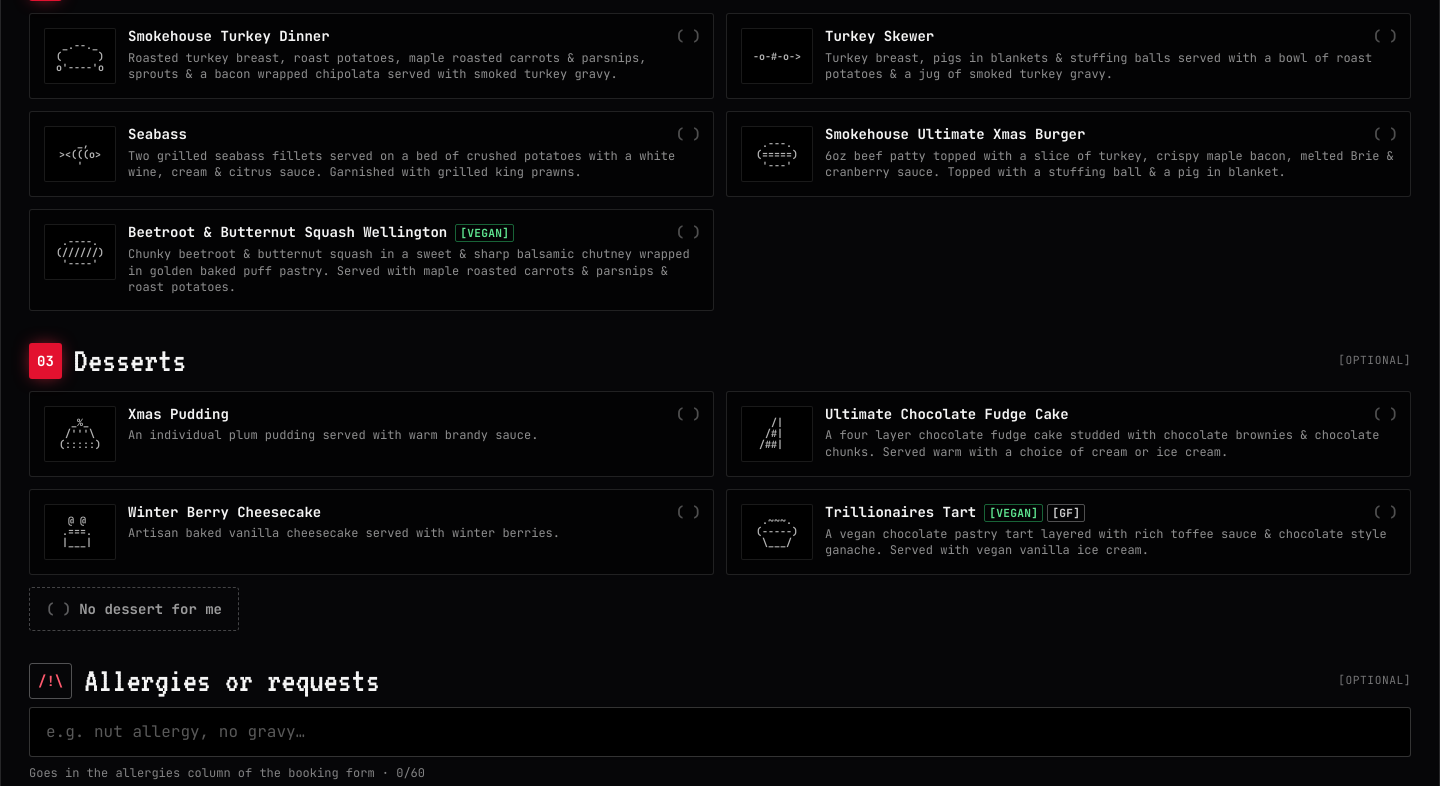
Test: OrderForm › lets you unselect a dish, a skip choice or an option by tapping it again
The image size is (1440, 786).
Earlier steps of the test are not shown.
(page scrolled)
Note: Fudge cake option has no default: tapping it again clears it.
What coordinates should you click on to do the following:
click the radio button labelled "Ultimate Chocolate Fudge Cake"
I would click on:
 (1068, 434)
Its box is [726,390,1411,476].
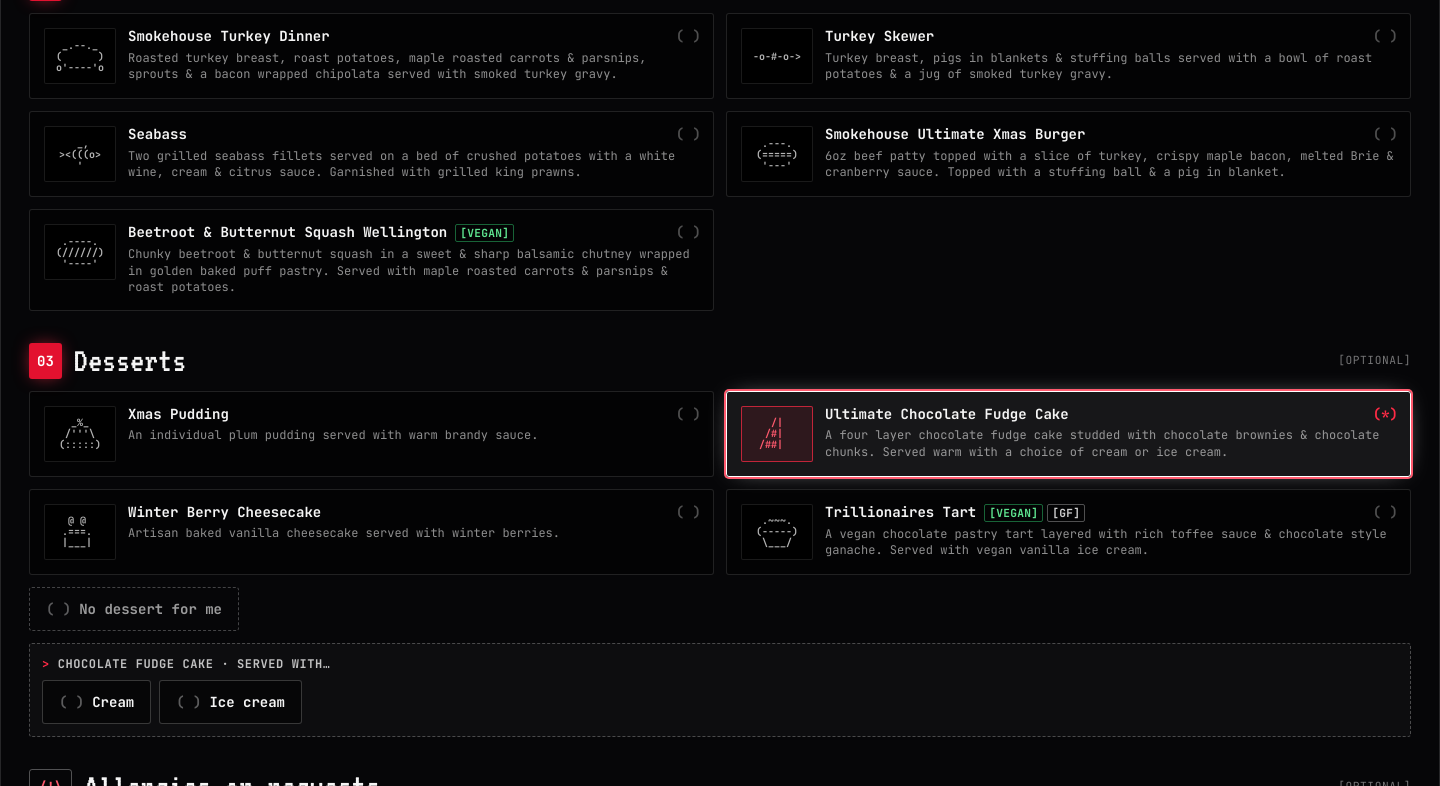
What coordinates should you click on to do the following:
click the radio button labelled "Ice cream"
I would click on:
 (231, 702)
Its box is [159,680,302,724].
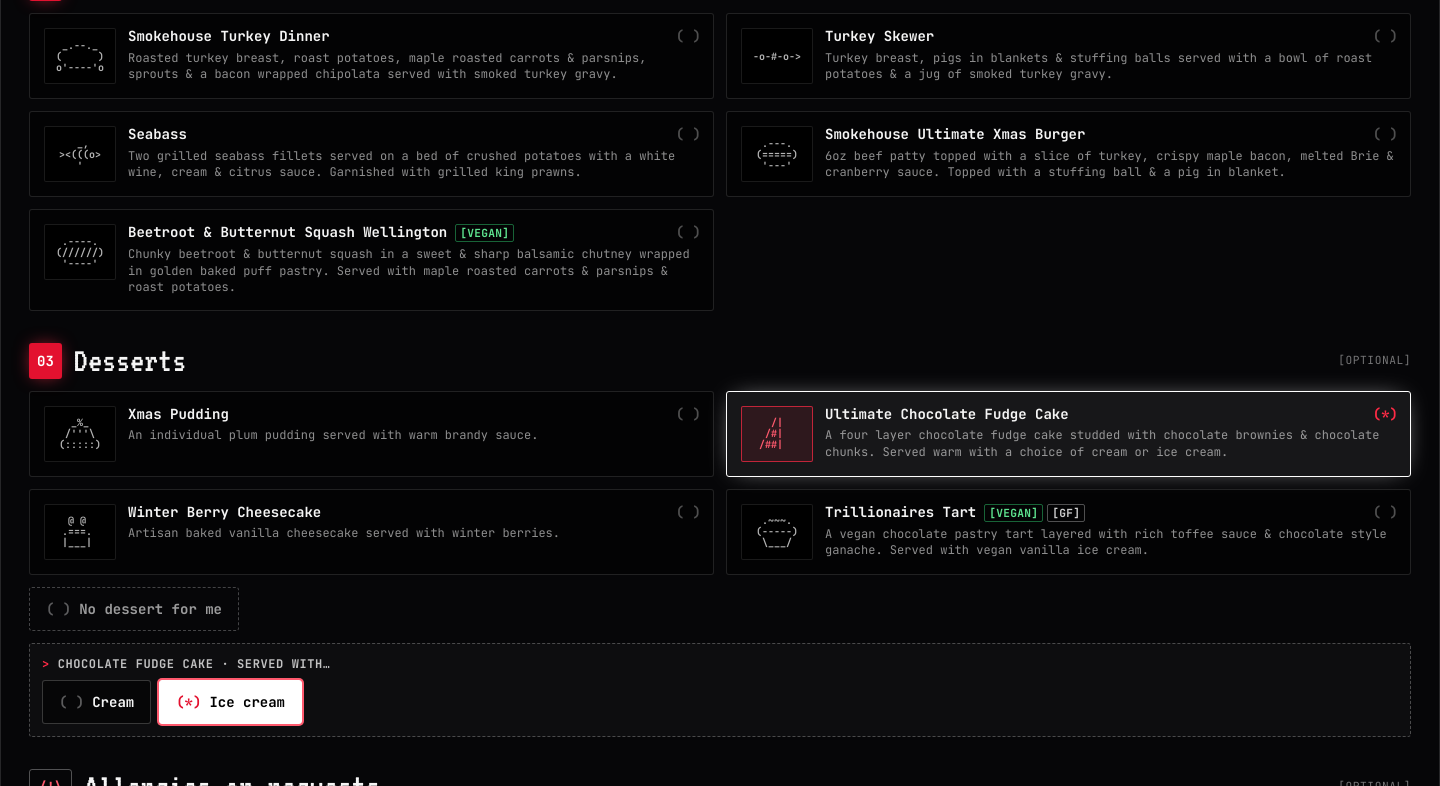
Expected: the radio button labelled "Ice cream" is checked
What coordinates should you click on to do the following:
click the radio button labelled "Ice cream"
I would click on:
 (231, 702)
Its box is [159,680,302,724].
(page scrolled)
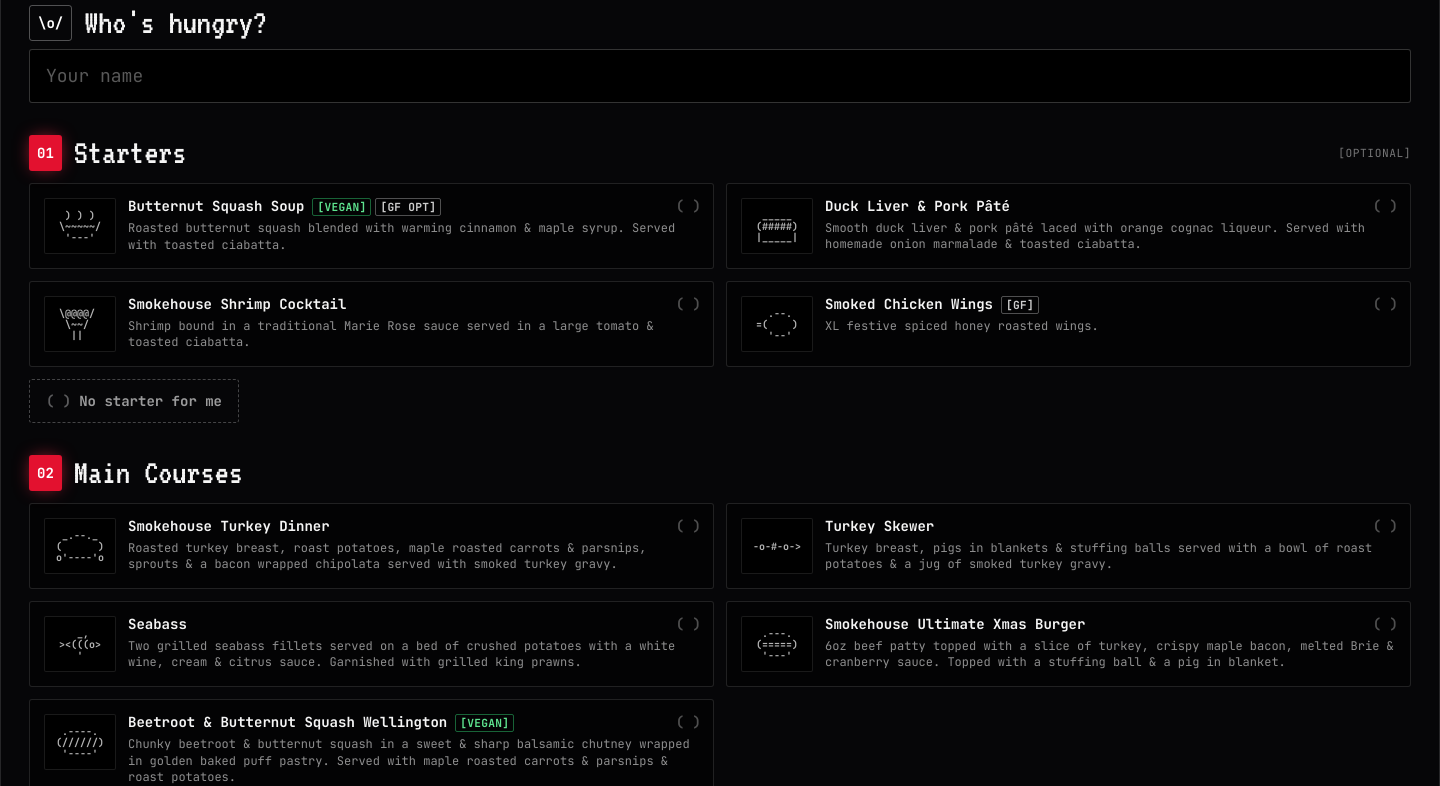
Note: Soup option falls back to the menu's default (standard).
What coordinates should you click on to do the following:
click the radio button labelled "Butternut Squash Soup"
I would click on:
 (372, 226)
Its box is [29,183,714,269].
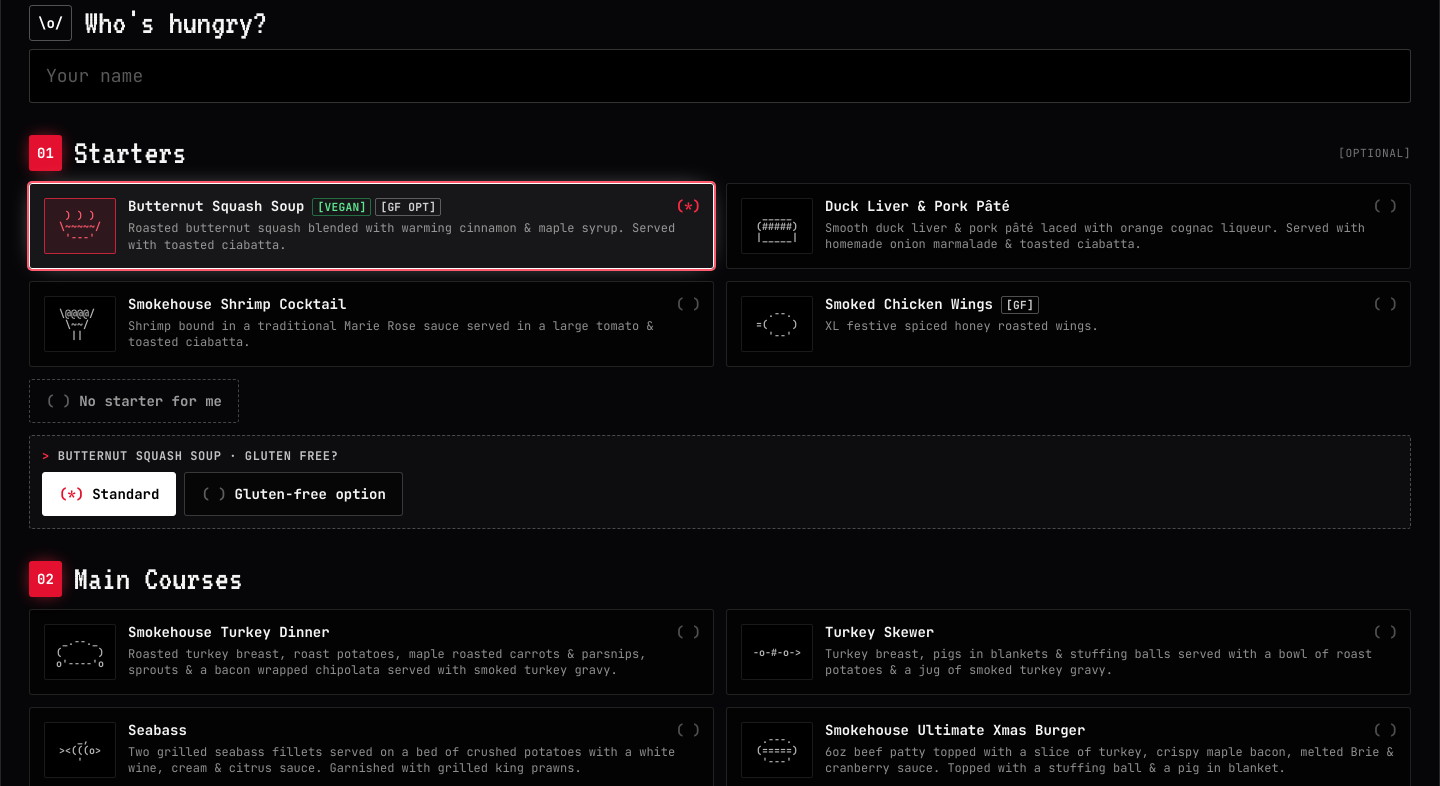
What coordinates should you click on to do the following:
click the radio button labelled "Gluten-free option"
I would click on:
 (294, 494)
Its box is [184,472,403,516].
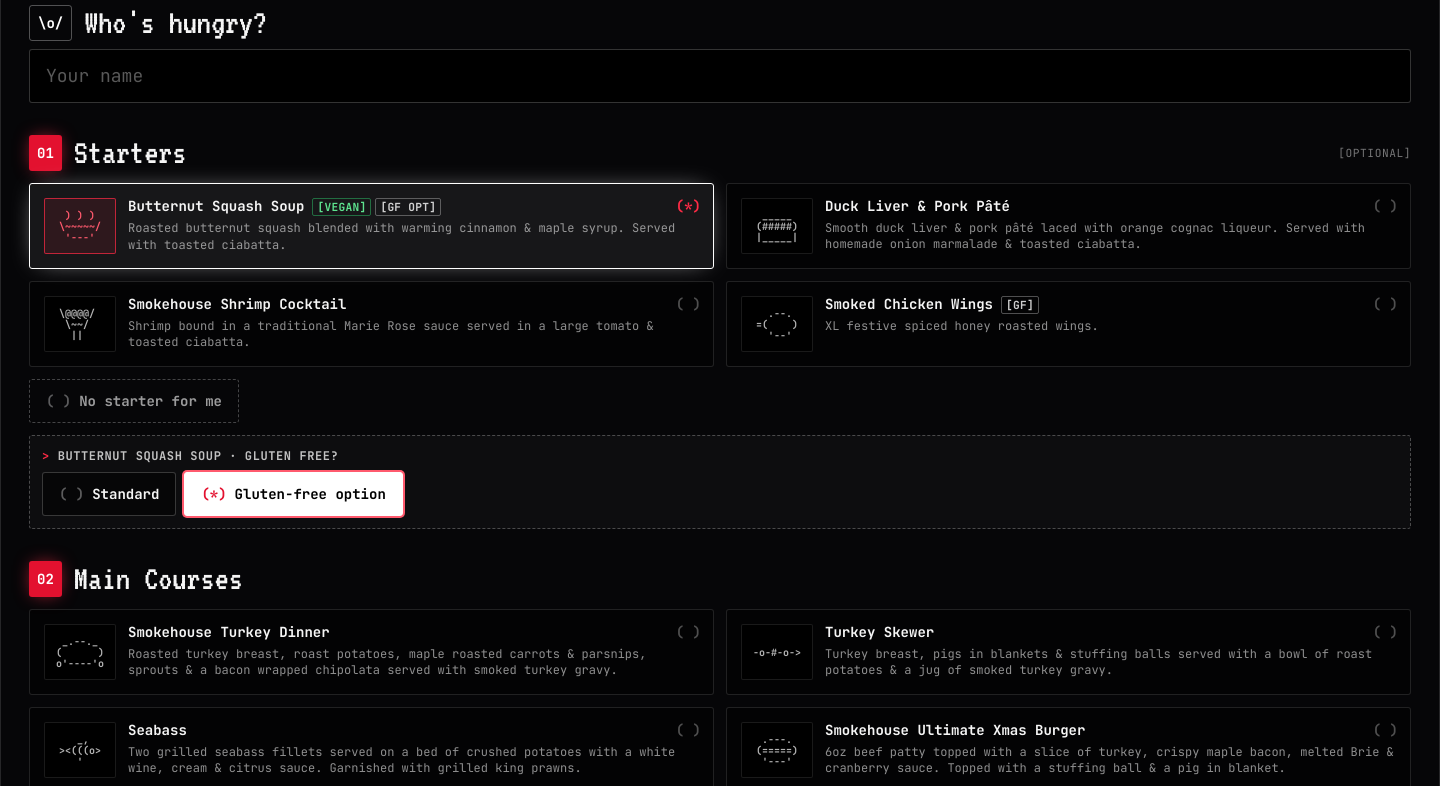
What coordinates should you click on to do the following:
click the radio button labelled "Gluten-free option"
I would click on:
 (294, 494)
Its box is [184,472,403,516].
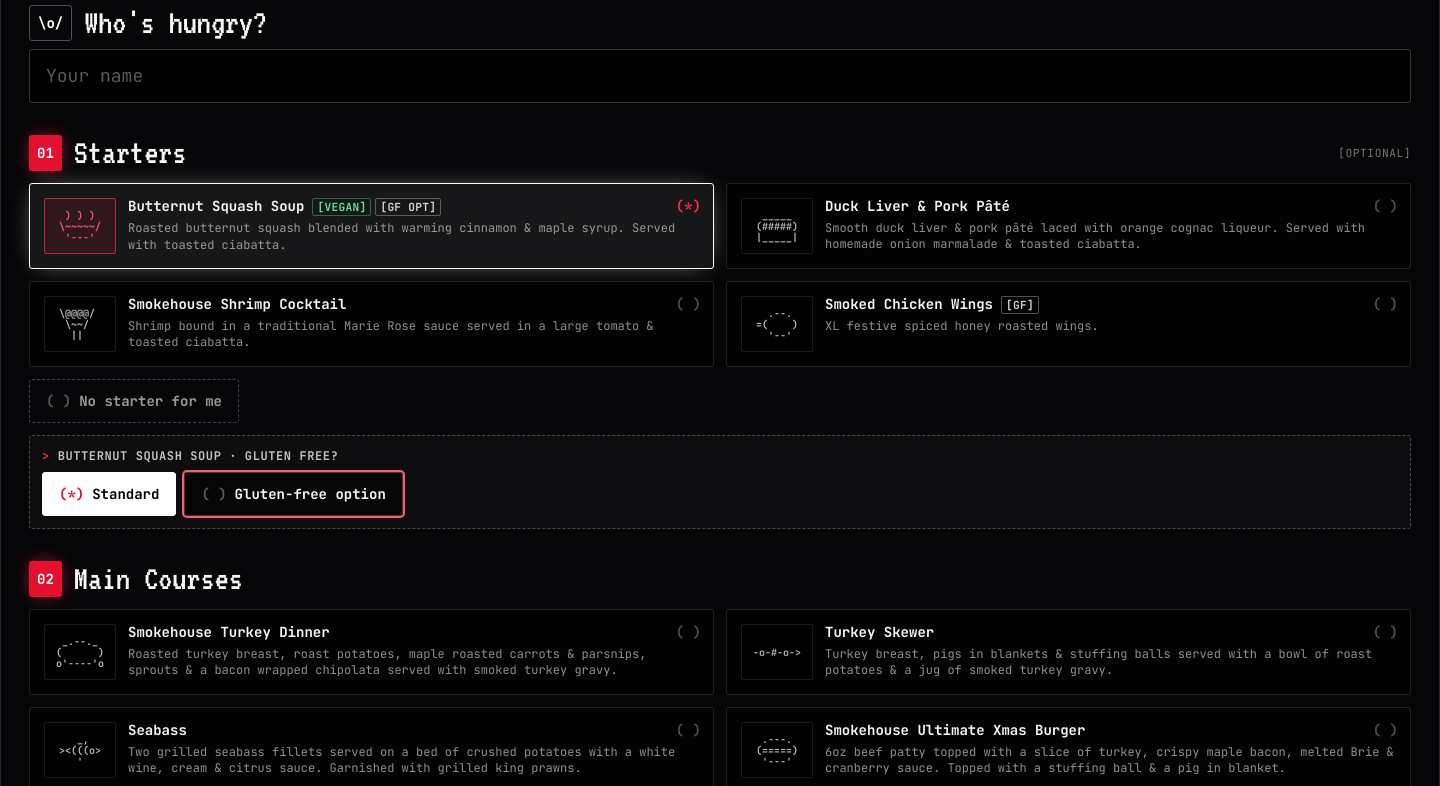
Expected: the radio button labelled "Standard" is checked, [42,472,176,516]
